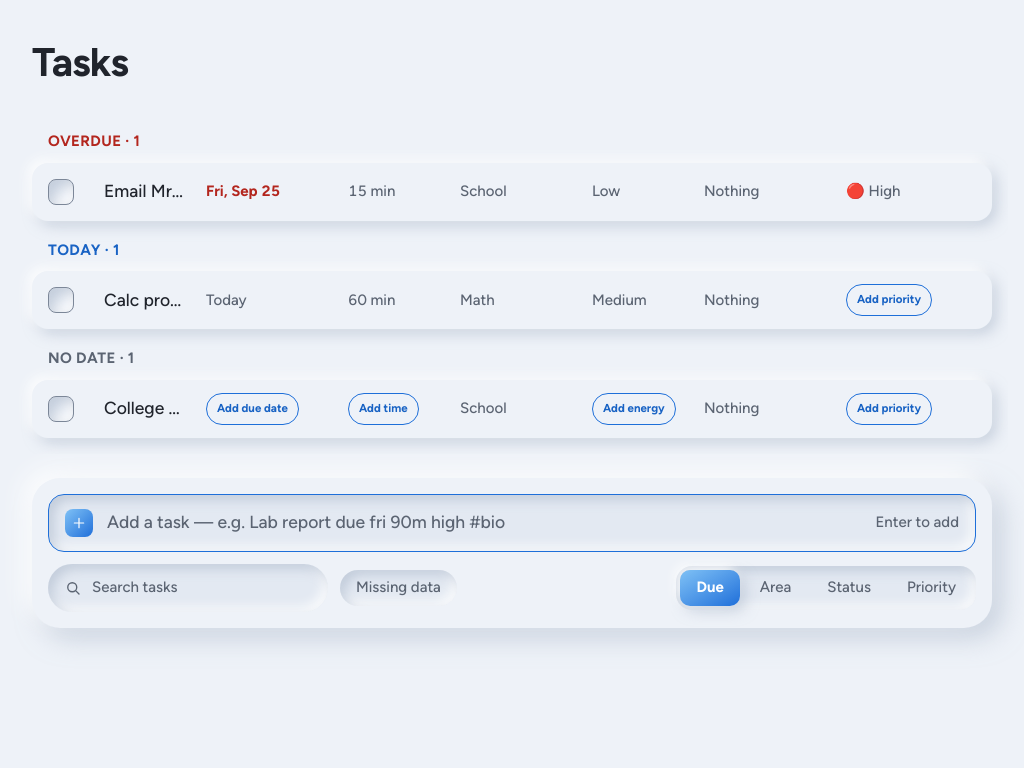
Test: TasksPage › the 'Missing data' toggle › clicking the toggle arms the filter, narrows the list to Tasks with missing fields, and sets aria-pressed=true
The width and height of the screenshot is (1024, 768).
Expected: the text "Calc problem set 4" is shown, [104,287,186,313]
Click the button with test id "tasks-filter-missing-data" at [398, 588], box [340,570,457,606]
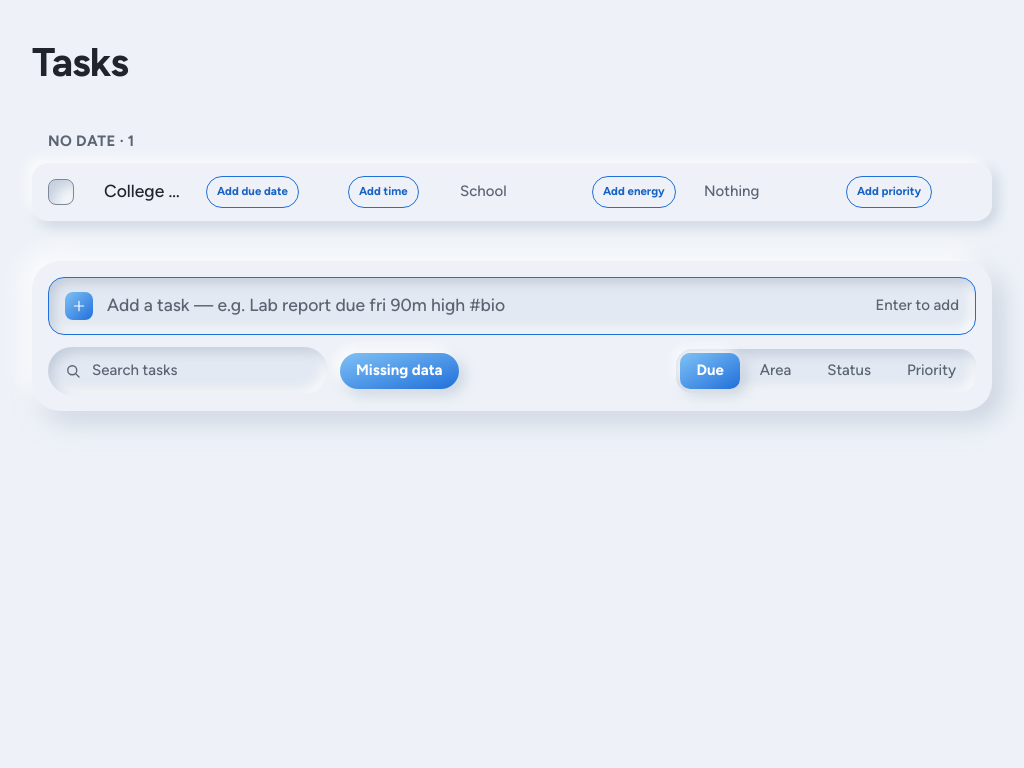
Expected: the text "College essay brainstorm" is shown, [104,178,186,205]
Expected: the button "Calc problem set 4" is gone
Expected: the button "Email Mr. Alvarez" is gone
